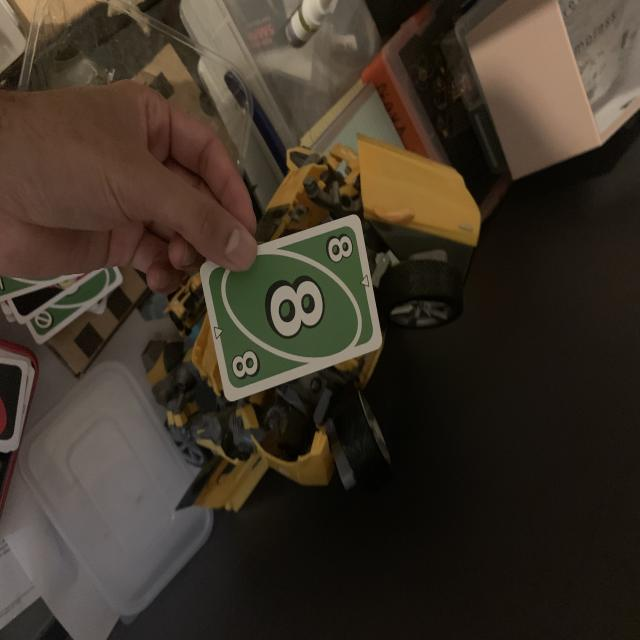lgreen-8: (322, 229, 356, 267)
